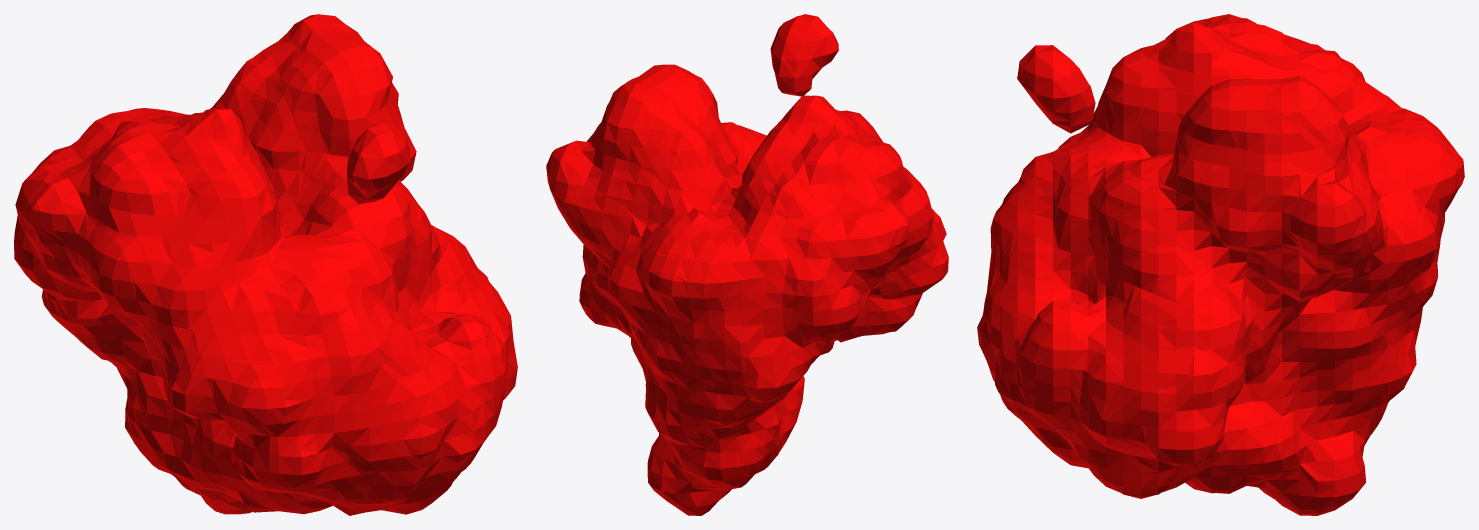
Rendered from GTP_binding_nuclear_protein_Ra_coarse.dae.
3 views of the same model, side by side, from view 1: azimuth 30°, elevation 25°; view 2: azimuth 150°, elevation 25°; view 3: azimuth 270°, elevation 25° (orthographic). The views are drawn at different scales.
Visible parts, largest first — view 1: GTP_binding_nuclear_protein_Ra; view 2: GTP_binding_nuclear_protein_Ra; view 3: GTP_binding_nuclear_protein_Ra.
Part boxes in pixels (x1=…): GTP_binding_nuclear_protein_Ra: x1=14, y1=14, x2=517, y2=515; GTP_binding_nuclear_protein_Ra: x1=546, y1=14, x2=948, y2=515; GTP_binding_nuclear_protein_Ra: x1=977, y1=14, x2=1464, y2=515.
Size of the model in its own units: 101 by 110 by 103.
